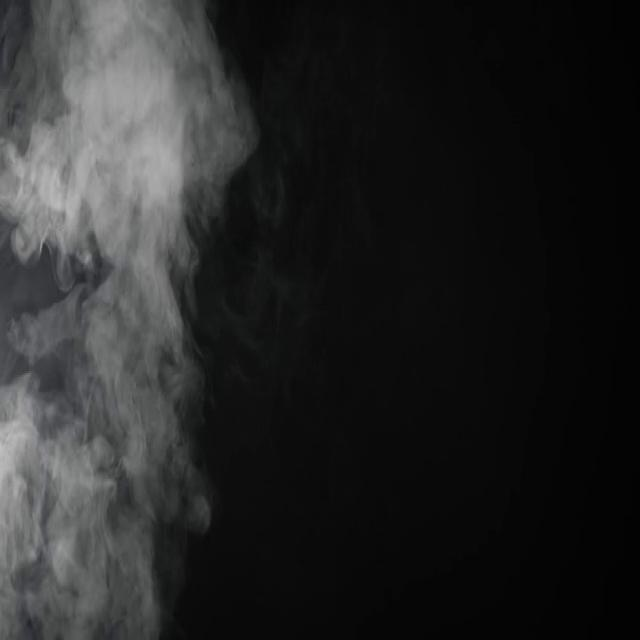smoke: (2, 399, 192, 640), (3, 0, 140, 291), (8, 270, 156, 446), (126, 0, 260, 193), (121, 327, 216, 538), (114, 168, 228, 310)
